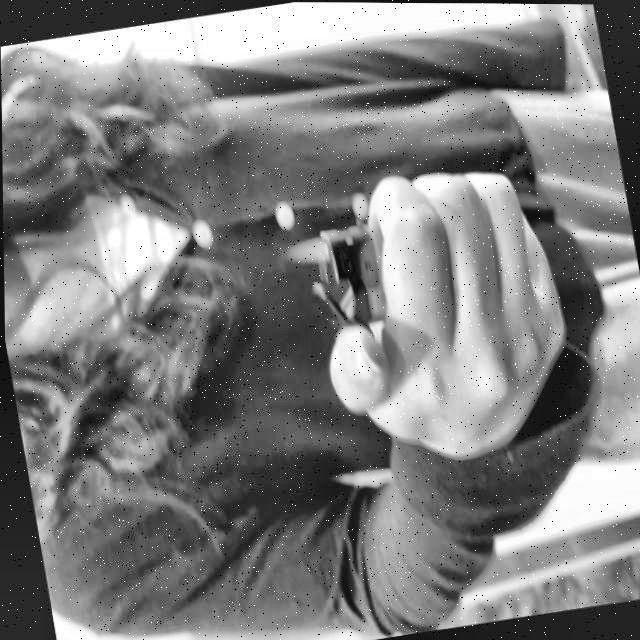Fire: (280, 237, 326, 267)
